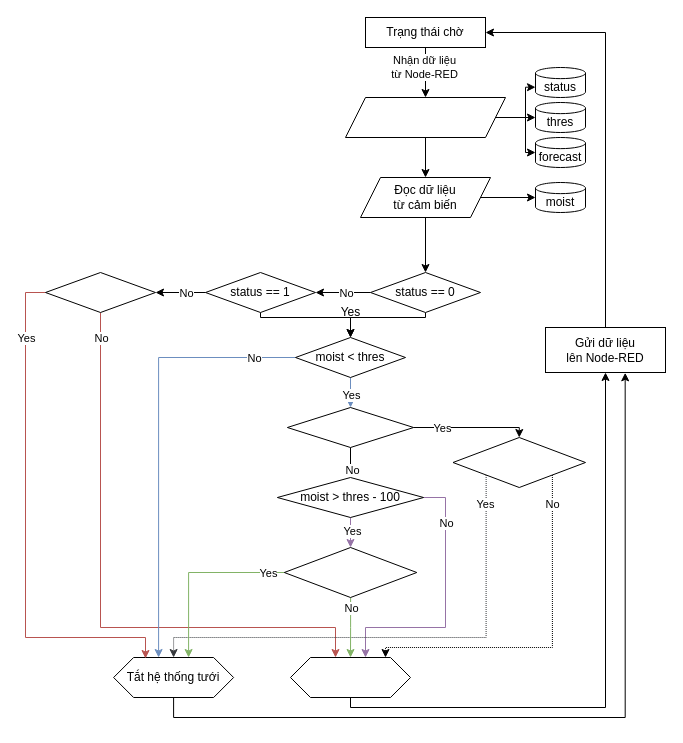
The diagram is 683 pixels wide and 743 high, and some of its shapes have lost their labels. The shapes that lost their labels are listed below. From the top down, each one's box as (x1, y1, x2, y2) in pixels, then its label:
(344, 96, 506, 138): Đọc dữ liệu từ Node-RED
(44, 272, 156, 312): status == 2
(286, 406, 414, 448): moist > thres - 50
(452, 436, 586, 488): Rain in next 2 hour?
(283, 546, 417, 598): Rain in next 1 hour?
(290, 656, 410, 698): Bật hệ thống tưới
